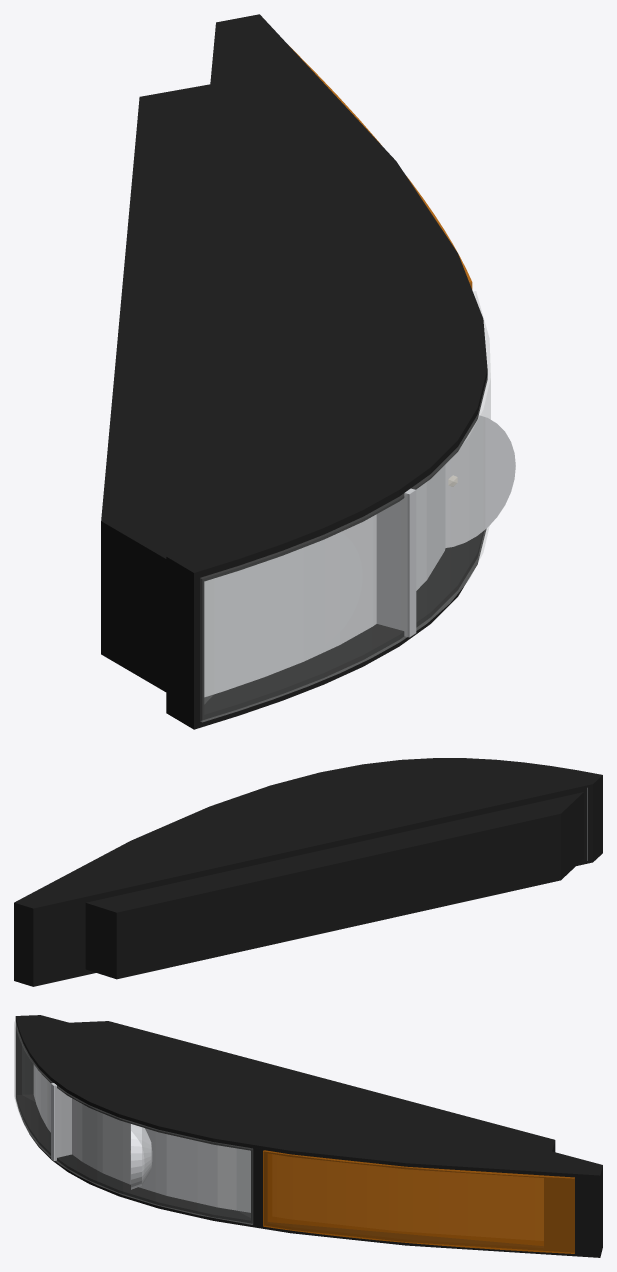
File: farol_van.glb
The picture shows the model from 3 angles, top to bottom: view 1: azimuth 30°, elevation 25°; view 2: azimuth 150°, elevation 25°; view 3: azimuth 270°, elevation 25°; orthographic projection. The views are drawn at different scales.
Visible parts, largest first — view 1: farol_van_plastico_preto, farol_van_lente_farol, farol_van_refletor, farol_van_cromado; view 2: farol_van_plastico_preto; view 3: farol_van_plastico_preto, farol_van_lente_pisca, farol_van_lente_farol, farol_van_refletor, farol_van_cromado.
Part boxes in pixels (box(x1,y1,x2,y2)): farol_van_plastico_preto: box(101, 14, 487, 729); farol_van_lente_farol: box(200, 291, 490, 722); farol_van_refletor: box(204, 415, 515, 696); farol_van_cromado: box(376, 488, 416, 637); farol_van_plastico_preto: box(14, 758, 602, 986); farol_van_plastico_preto: box(15, 1015, 602, 1257); farol_van_lente_pisca: box(263, 1150, 574, 1253); farol_van_lente_farol: box(14, 1021, 252, 1224); farol_van_refletor: box(33, 1065, 250, 1212); farol_van_cromado: box(51, 1083, 71, 1160).
Bounding box in the file's own units: 0.3932 × 0.094 × 0.6091.
